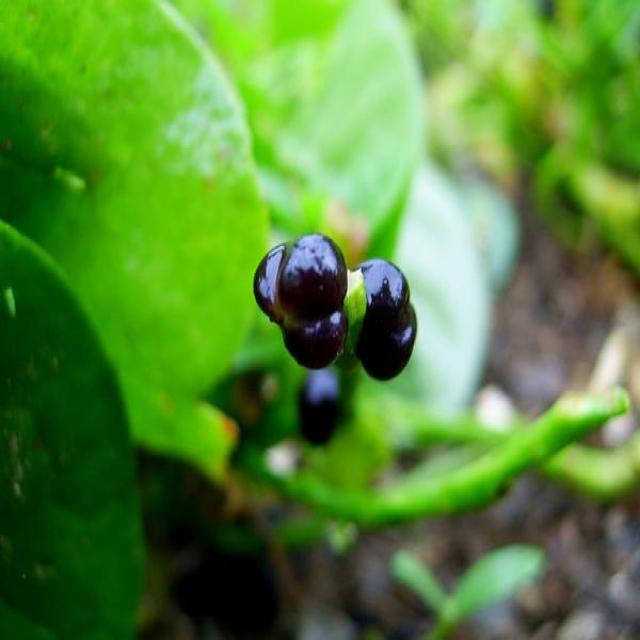Medicinal-Basale: (1, 0, 640, 550)
